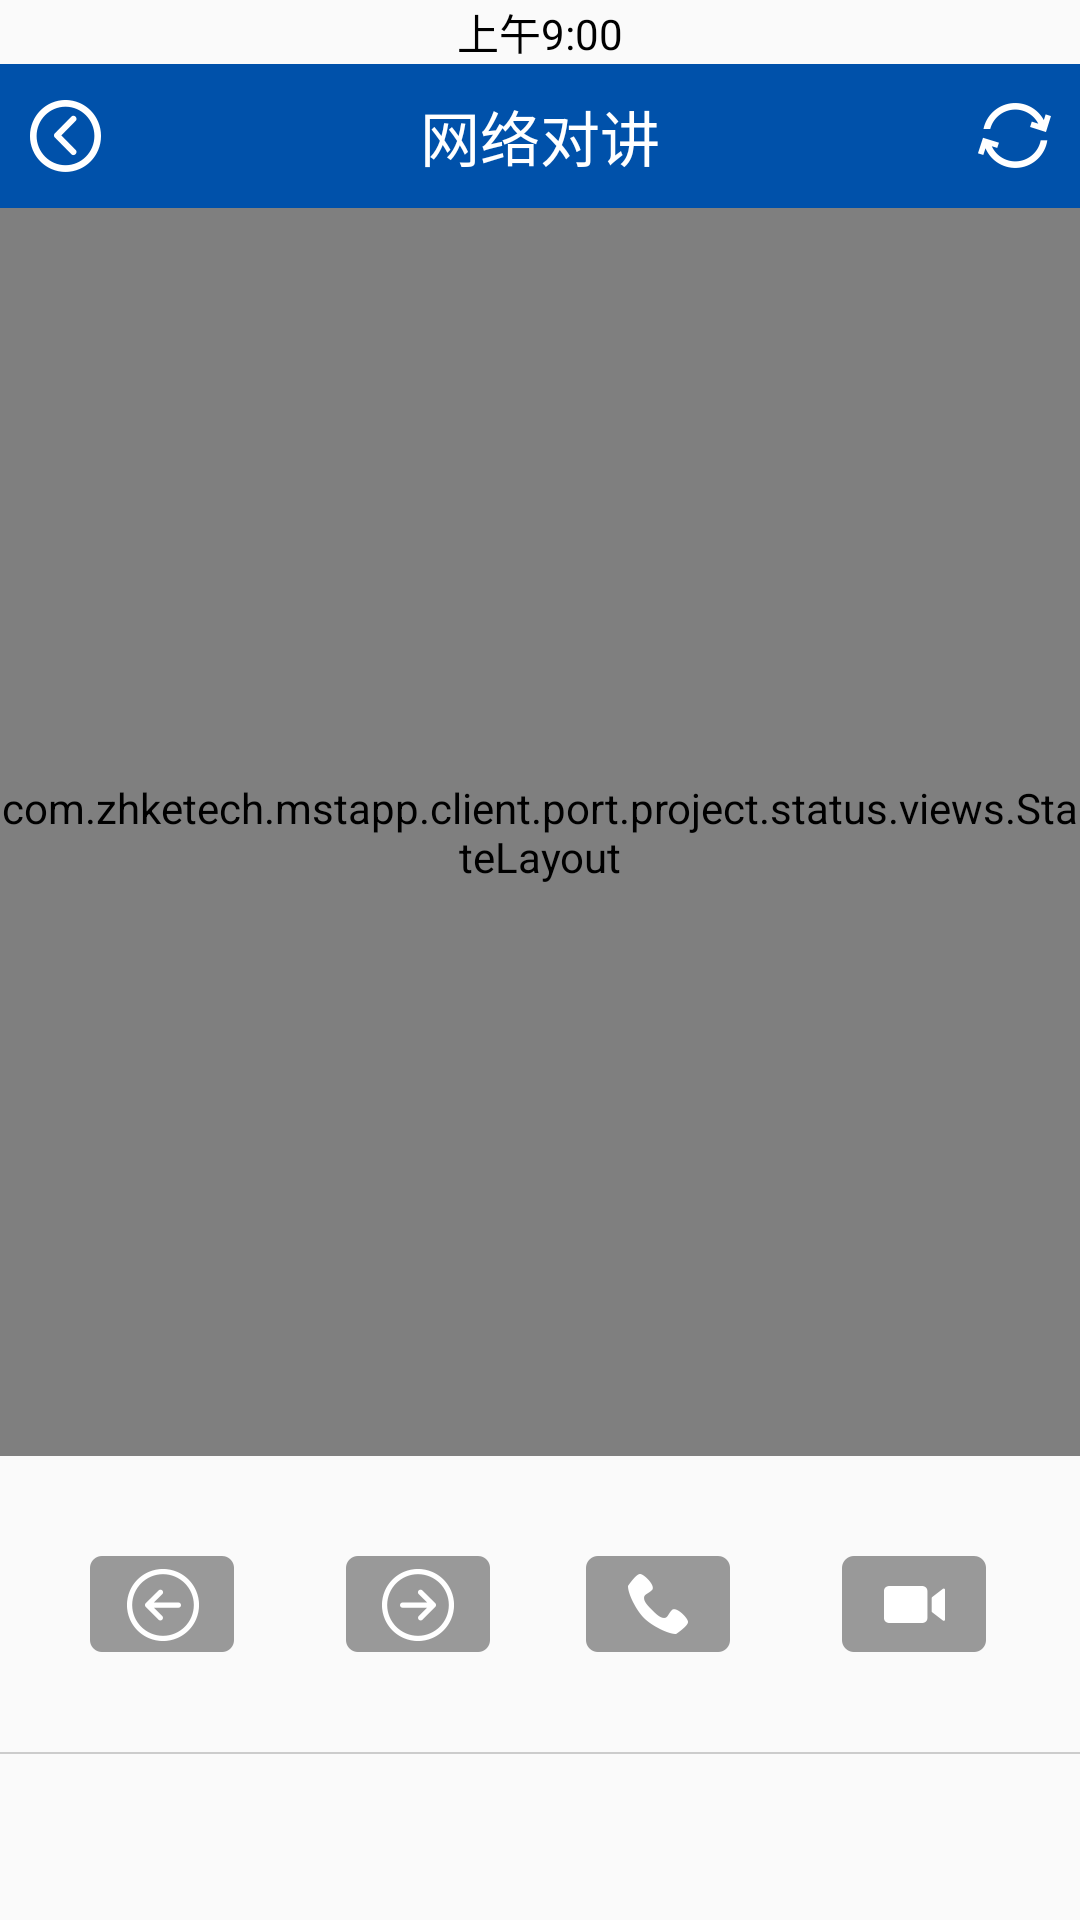

Where icons sit on this 1080 × 1920 app screen, as (x1, y1, x2, y2):
port monitoring refresh: (978, 103, 1051, 168)
port monitoring return: (30, 100, 101, 172)
port sipgroup left: (90, 1556, 234, 1652)
port sipgroup right: (346, 1556, 490, 1652)
port sipgroup video: (842, 1556, 986, 1652)
port sipgroup voice: (586, 1556, 730, 1652)
